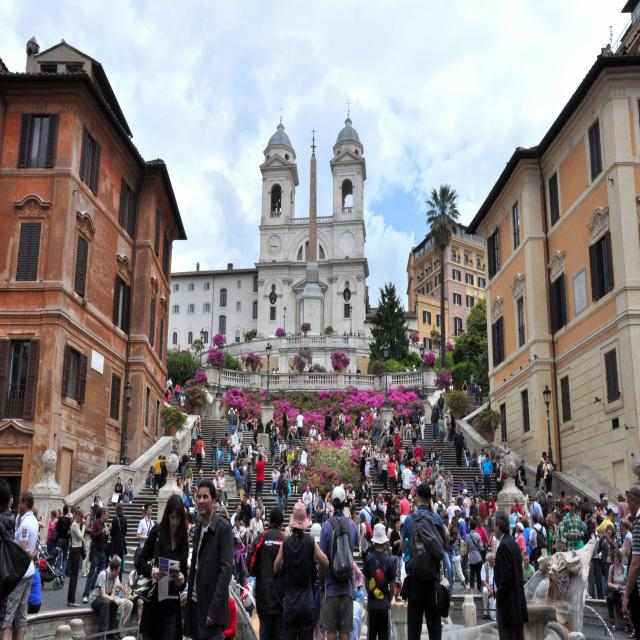body: (182, 478, 236, 640), (134, 492, 189, 640), (400, 482, 450, 640), (317, 484, 361, 640), (1, 489, 40, 640), (246, 506, 286, 640), (0, 477, 31, 640), (492, 508, 529, 640), (360, 522, 398, 640), (621, 486, 640, 640), (82, 505, 110, 603), (90, 558, 120, 640), (106, 554, 134, 638), (606, 547, 632, 633), (223, 573, 256, 640), (66, 508, 86, 606), (582, 517, 604, 600), (123, 557, 144, 637), (108, 503, 128, 586), (347, 551, 365, 640), (464, 518, 484, 598), (598, 524, 620, 595), (450, 516, 469, 595), (309, 522, 324, 620), (231, 514, 248, 598), (81, 503, 99, 578), (56, 504, 72, 583), (562, 499, 585, 552), (442, 513, 455, 597), (458, 509, 471, 590), (480, 551, 495, 620), (389, 516, 403, 583), (136, 502, 155, 548), (28, 554, 42, 615), (360, 512, 374, 566), (618, 518, 633, 567), (617, 493, 631, 543), (475, 516, 489, 564), (255, 453, 268, 500), (596, 508, 616, 538), (45, 510, 58, 556), (553, 511, 567, 553), (179, 565, 191, 614), (249, 508, 264, 547), (481, 454, 493, 502), (192, 434, 206, 475), (153, 454, 166, 498), (520, 518, 534, 558), (539, 520, 554, 557), (241, 493, 252, 541), (212, 472, 228, 504), (398, 490, 409, 536), (254, 496, 268, 532), (385, 455, 397, 497), (515, 522, 527, 564), (509, 502, 523, 537), (522, 551, 536, 586), (210, 432, 222, 472), (217, 468, 229, 508), (542, 455, 554, 495), (530, 495, 544, 529), (401, 462, 413, 501), (358, 498, 373, 529), (453, 426, 464, 468), (594, 514, 604, 560), (229, 455, 242, 490), (536, 484, 548, 520), (376, 419, 389, 452), (281, 464, 290, 511), (226, 427, 238, 462), (449, 520, 459, 562), (460, 488, 470, 529), (486, 493, 496, 534), (31, 505, 45, 533), (314, 492, 326, 524), (516, 460, 528, 492), (269, 424, 278, 466), (380, 450, 389, 492), (445, 468, 454, 510), (178, 450, 189, 484), (302, 485, 313, 519), (111, 477, 123, 508), (277, 469, 286, 510), (120, 478, 134, 504), (456, 477, 467, 510), (190, 421, 199, 461), (247, 440, 259, 470), (372, 446, 381, 486), (478, 448, 487, 488), (544, 491, 556, 521), (146, 465, 159, 492), (493, 455, 502, 494), (183, 461, 193, 496), (434, 492, 445, 523), (581, 496, 594, 522), (510, 496, 525, 518), (220, 505, 233, 530), (358, 475, 369, 504), (430, 407, 439, 442), (182, 489, 191, 524), (288, 454, 300, 480), (230, 502, 242, 528), (536, 457, 546, 488), (270, 466, 281, 494), (220, 432, 229, 466), (253, 417, 264, 444), (398, 409, 407, 442), (189, 491, 198, 524), (363, 443, 371, 480), (243, 462, 252, 494), (478, 492, 486, 528), (511, 516, 523, 540), (373, 407, 381, 442), (392, 455, 399, 495), (469, 494, 479, 522), (296, 411, 304, 445), (438, 414, 446, 447), (300, 446, 309, 475), (430, 457, 439, 486), (284, 514, 295, 537), (292, 466, 301, 494), (324, 485, 336, 506), (376, 493, 385, 521), (602, 497, 614, 518), (346, 483, 356, 508), (338, 409, 346, 440), (436, 393, 445, 420), (490, 532, 499, 559), (374, 412, 381, 446), (387, 515, 396, 541), (194, 469, 204, 492), (546, 512, 556, 535), (324, 410, 332, 438), (412, 405, 419, 437), (160, 455, 167, 487), (524, 502, 532, 530), (413, 442, 424, 462), (360, 449, 367, 480), (232, 408, 240, 435), (247, 492, 255, 519), (424, 461, 433, 485), (594, 492, 606, 510), (522, 486, 529, 516), (341, 507, 356, 521), (326, 494, 334, 520), (392, 428, 401, 451), (437, 469, 444, 498), (279, 438, 287, 463), (416, 457, 424, 482), (429, 480, 437, 505), (560, 490, 568, 515), (282, 410, 288, 443), (390, 496, 399, 518), (286, 427, 295, 448), (228, 407, 234, 438), (449, 410, 455, 441), (286, 447, 294, 470), (237, 426, 243, 456), (408, 494, 418, 512), (464, 447, 472, 469), (570, 494, 581, 510), (419, 411, 425, 440), (239, 412, 248, 431), (330, 423, 339, 442), (444, 414, 450, 442), (91, 494, 103, 508), (366, 475, 373, 499), (382, 497, 390, 518), (471, 476, 480, 494), (490, 450, 497, 473), (512, 466, 520, 486), (340, 483, 348, 502), (313, 486, 320, 507), (462, 380, 468, 404), (393, 444, 401, 462), (371, 494, 379, 512), (595, 503, 604, 519), (68, 505, 81, 516), (471, 448, 478, 468), (388, 433, 396, 450), (403, 447, 412, 462), (165, 376, 172, 395), (405, 419, 412, 438), (174, 380, 180, 402), (368, 408, 374, 430), (369, 446, 375, 468), (265, 420, 273, 436), (381, 446, 389, 462), (290, 421, 297, 439), (237, 457, 244, 475), (355, 406, 360, 431), (418, 406, 422, 436), (176, 477, 184, 492), (252, 499, 258, 519), (438, 460, 444, 480), (429, 446, 436, 463), (474, 383, 479, 406), (196, 422, 202, 441), (314, 430, 322, 444), (319, 432, 327, 446), (352, 425, 359, 441), (252, 443, 260, 457), (250, 414, 256, 432), (366, 425, 372, 443), (448, 375, 454, 393), (460, 431, 466, 449), (470, 375, 475, 396), (443, 399, 450, 414), (245, 414, 251, 431), (240, 441, 246, 458), (178, 386, 183, 406), (387, 436, 392, 456), (163, 473, 170, 487), (180, 392, 186, 408), (274, 423, 280, 439), (389, 420, 395, 436), (432, 403, 440, 415), (553, 502, 561, 514), (251, 440, 264, 447), (280, 451, 286, 466), (8, 494, 14, 509), (410, 444, 416, 459), (367, 496, 373, 511), (583, 512, 592, 522), (306, 432, 314, 443), (288, 364, 292, 385), (479, 385, 483, 406), (288, 440, 294, 454), (411, 458, 417, 472), (345, 434, 353, 444), (310, 424, 316, 437), (339, 433, 346, 444), (291, 366, 295, 385), (317, 424, 322, 439), (276, 367, 280, 385), (437, 449, 443, 461), (359, 412, 364, 426), (405, 366, 410, 380), (356, 365, 361, 379), (55, 510, 62, 520), (563, 504, 570, 514), (168, 387, 172, 404), (228, 406, 235, 415), (335, 420, 340, 432), (423, 451, 428, 463), (429, 496, 434, 508), (343, 330, 347, 344), (296, 447, 300, 461), (244, 442, 248, 456), (141, 505, 145, 519), (358, 424, 363, 435), (392, 422, 398, 431), (196, 413, 202, 422), (165, 389, 169, 402), (266, 369, 269, 386), (312, 435, 317, 445), (96, 510, 101, 520), (263, 370, 266, 386), (357, 333, 361, 345), (541, 452, 547, 460), (171, 445, 176, 454), (255, 419, 259, 430), (538, 514, 542, 524), (294, 332, 297, 345), (362, 439, 366, 448), (441, 494, 445, 503), (368, 439, 372, 447), (314, 368, 319, 374), (412, 365, 417, 371), (483, 449, 488, 455), (172, 473, 178, 478), (379, 414, 381, 428), (344, 430, 347, 439), (556, 496, 561, 501), (288, 331, 292, 337), (364, 335, 372, 338), (402, 458, 406, 464), (347, 333, 349, 343), (348, 368, 352, 373), (398, 369, 402, 374), (297, 499, 302, 503), (272, 368, 275, 374), (90, 506, 93, 512), (353, 332, 356, 337), (258, 368, 261, 372), (299, 332, 302, 336), (275, 369, 277, 373), (297, 332, 299, 336), (320, 332, 322, 336), (292, 333, 294, 337), (319, 369, 321, 372), (332, 423, 333, 428), (248, 370, 250, 372)
